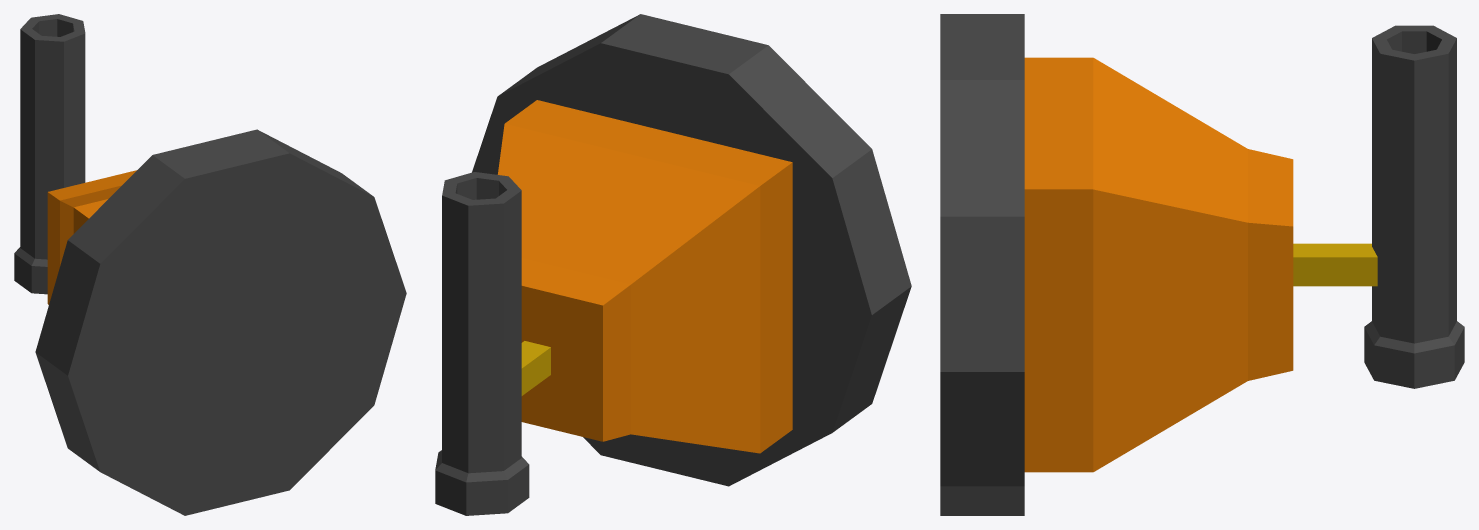
The model's file is torreta.fbx.
3 renders of one model, left to right at view 1: azimuth 30°, elevation 25°; view 2: azimuth 150°, elevation 25°; view 3: azimuth 270°, elevation 25°, orthographic. The views are drawn at different scales.
Visible parts, largest first — view 1: Cylinder; view 2: Cylinder; view 3: Cylinder.
Part boxes in pixels (bbox=[...]): Cylinder: bbox=[14, 14, 406, 515]; Cylinder: bbox=[435, 14, 911, 515]; Cylinder: bbox=[940, 14, 1464, 515].
Size of the model in its own units: 19440 by 18693 by 20159.
